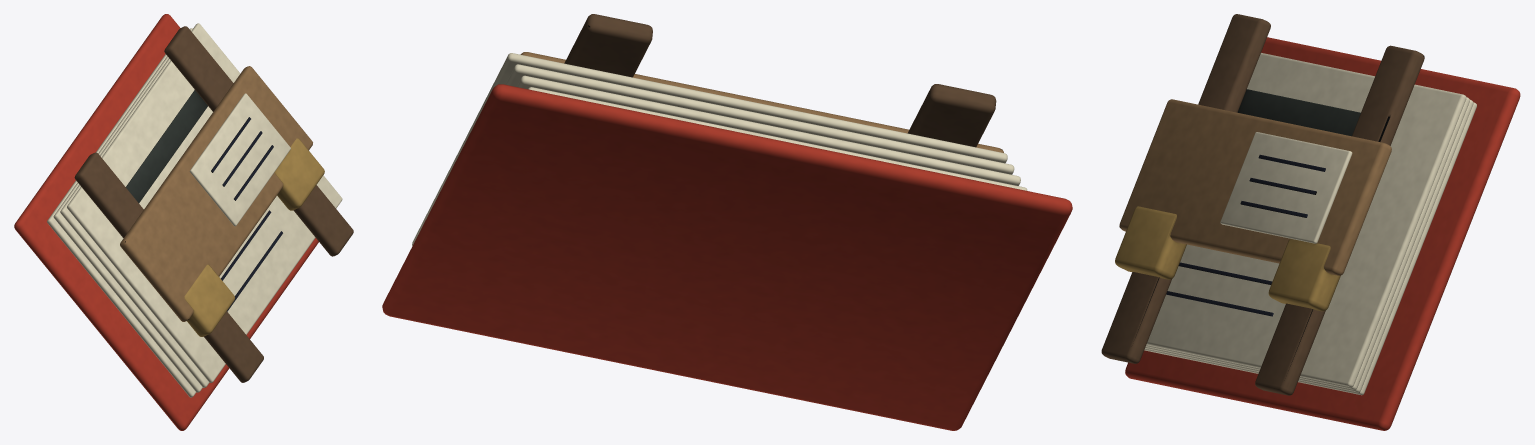
The picture shows the model from 3 angles, left to right: view 1: azimuth 30°, elevation 25°; view 2: azimuth 150°, elevation 25°; view 3: azimuth 270°, elevation 25°; orthographic projection. The views are drawn at different scales.
Parts seen in each view (by area): view 1: Folded document backing; view 2: Folded document backing; view 3: Folded document backing.
Part boxes in pixels (x1,y1,x2,y2): Folded document backing: (14, 14, 353, 430); Folded document backing: (382, 14, 1072, 430); Folded document backing: (1101, 14, 1520, 430).
Size of the model in its own units: 1.35 by 1.06 by 1.01.
1 material, 1 textured.
